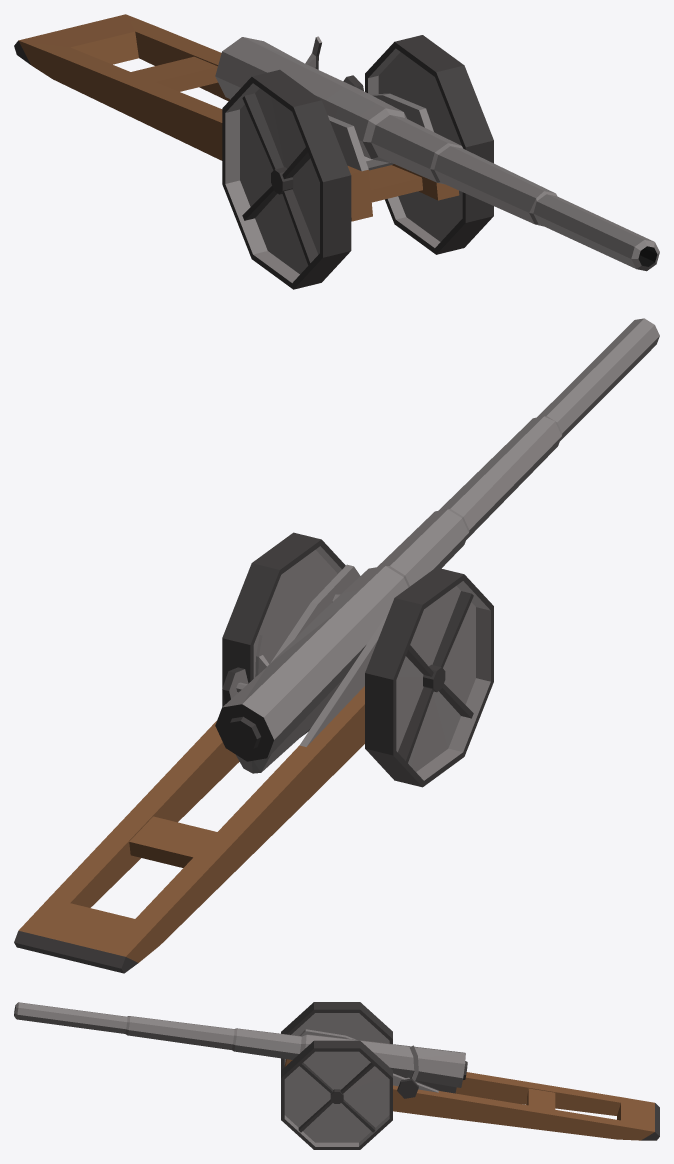
The model's file is zulu_cannon-naval.fbx.
The picture shows the model from 3 angles, top to bottom: view 1: azimuth 30°, elevation 25°; view 2: azimuth 150°, elevation 25°; view 3: azimuth 270°, elevation 25°; orthographic projection. The views are drawn at different scales.
Visible parts, largest first — view 1: zulu_cannon_naval; view 2: zulu_cannon_naval; view 3: zulu_cannon_naval.
Part boxes in pixels (<box>): zulu_cannon_naval: <box>14,14,659,289</box>; zulu_cannon_naval: <box>14,318,659,973</box>; zulu_cannon_naval: <box>14,1002,659,1149</box>.
Size of the model in its own units: 33.99 by 42.42 by 200.
